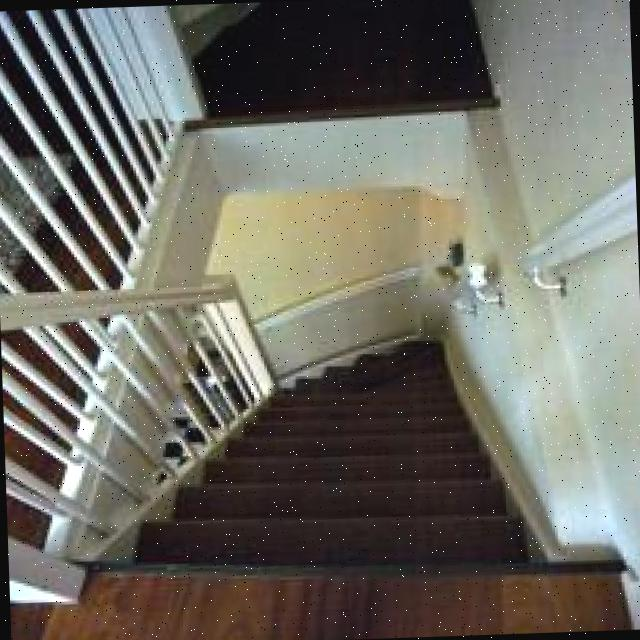stairs: (124, 332, 530, 576)
